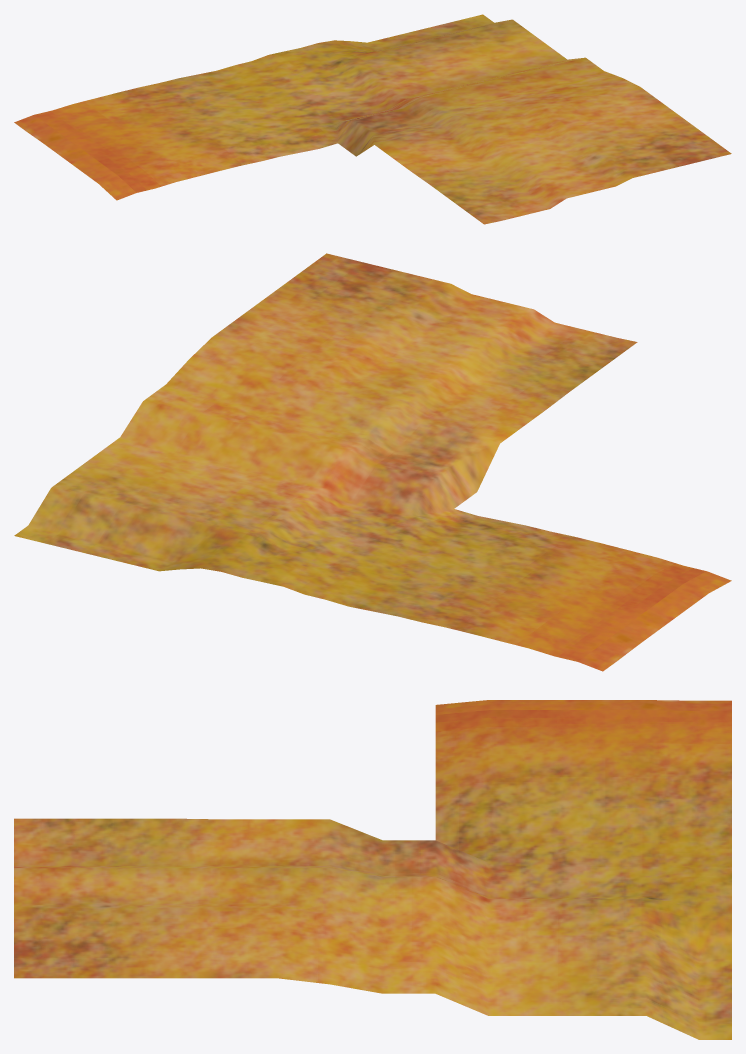
Rendered from Lava Ground.FBX.
The picture shows the model from 3 angles, top to bottom: view 1: azimuth 30°, elevation 25°; view 2: azimuth 150°, elevation 25°; view 3: azimuth 270°, elevation 25°; orthographic projection. The views are drawn at different scales.
Visible parts, largest first — view 1: Lava; view 2: Lava; view 3: Lava.
Boxes of the visible parts, <box> form: Lava: <box>14,14,731,224</box>; Lava: <box>14,253,731,671</box>; Lava: <box>14,700,731,1039</box>.
Size of the model in its own units: 518 by 45.15 by 477.
Materials: 1 (1 with a texture image).
